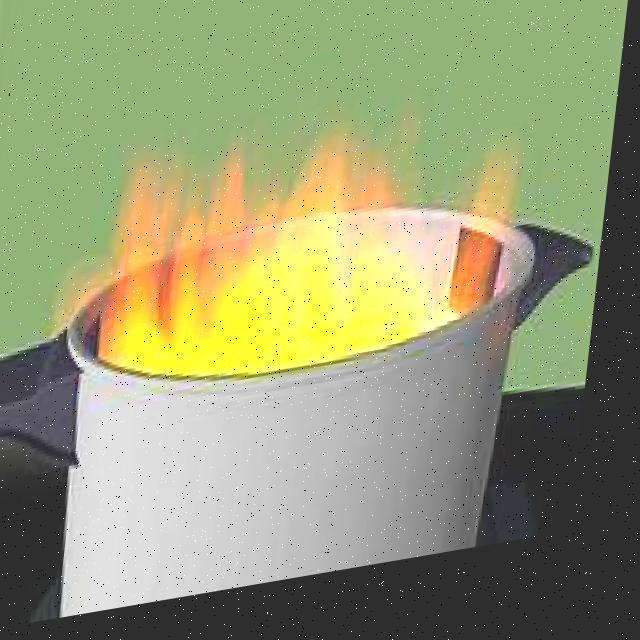Fire: (90, 116, 542, 426)
